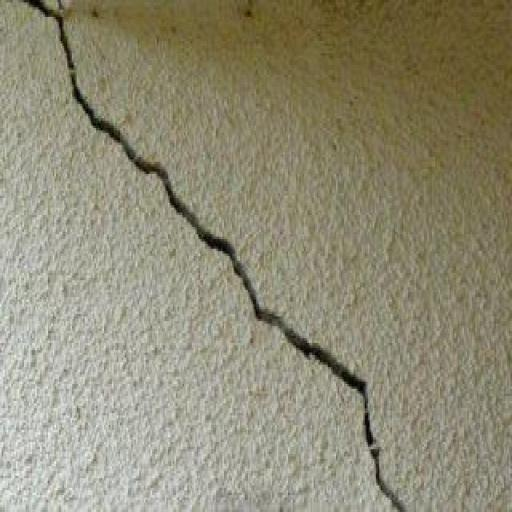spalling: (23, 16, 413, 511)
